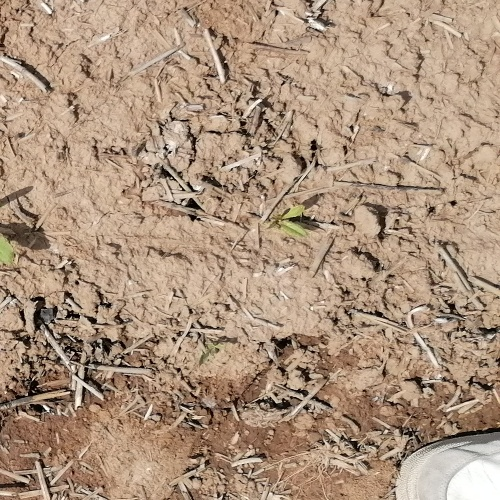beet: (267, 204, 310, 239), (0, 235, 17, 267)
